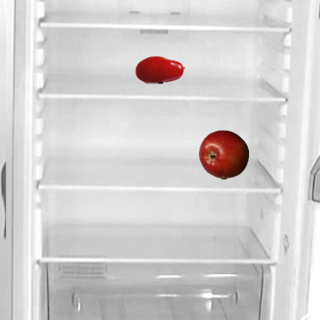Apple Braeburn: (198, 129, 248, 179)
Tomato 2: (134, 44, 184, 94)
